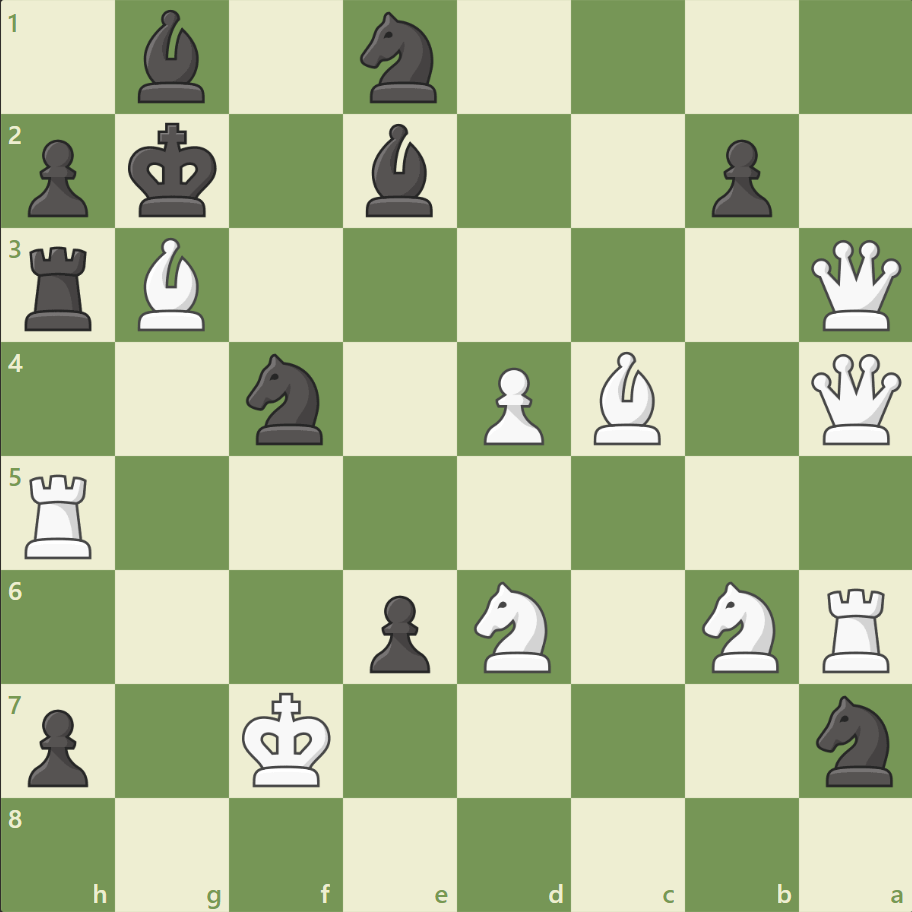B: (131, 233, 215, 336), (585, 347, 669, 449)
K: (238, 685, 338, 793)
N: (692, 575, 789, 677), (465, 575, 562, 677)
P: (474, 359, 549, 450)
Q: (805, 349, 904, 449), (805, 236, 904, 335)
R: (814, 579, 897, 676), (19, 466, 102, 563)
b: (131, 6, 215, 109), (358, 120, 442, 222)
k: (124, 117, 224, 225)
n: (351, 7, 449, 110), (806, 688, 903, 791), (238, 348, 335, 450)
p: (20, 700, 95, 791), (701, 132, 776, 223), (20, 132, 95, 223), (361, 586, 435, 677)
r: (19, 239, 102, 336)
